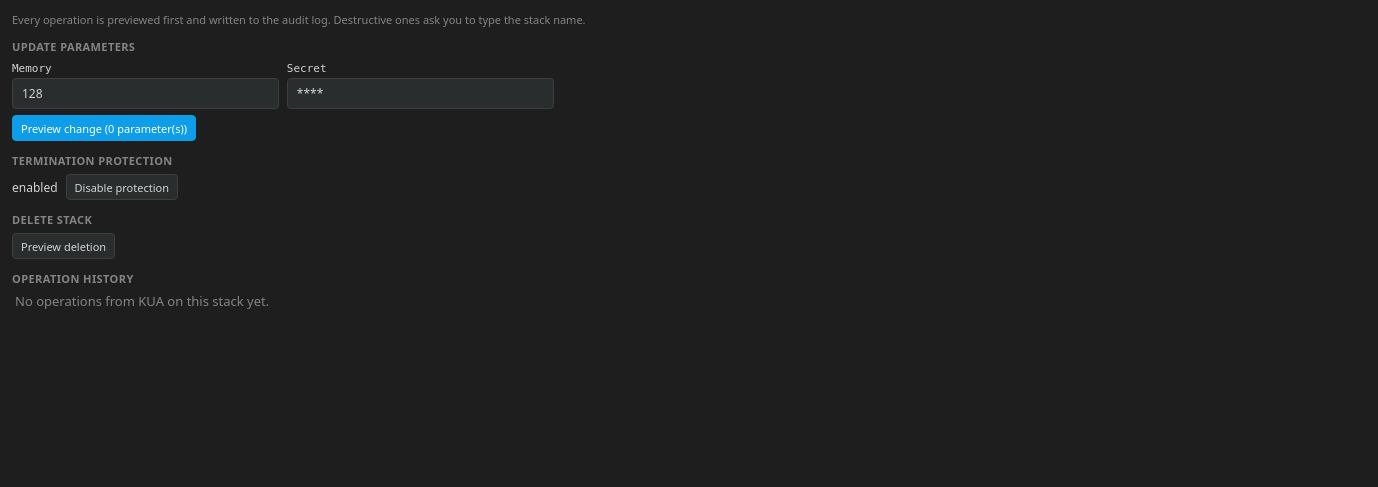
it: CfnOperations › shows delete blockers and hides the confirmation while the stack is protected
Click the button "Preview deletion". click: (64, 246)
box: [12,233,115,259]
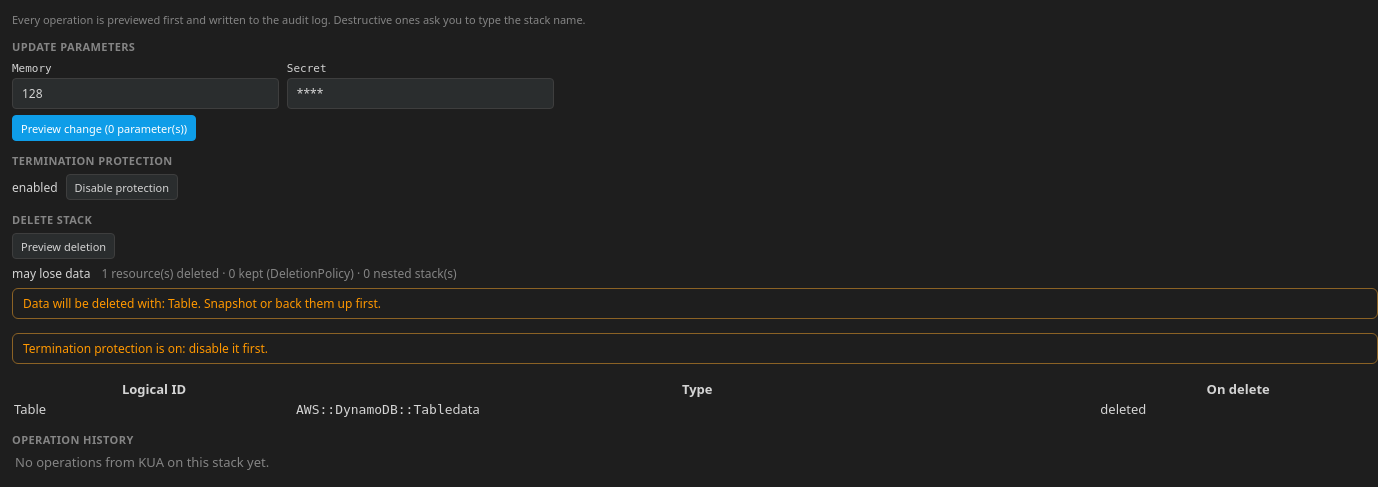
Check: the element with class "cop-section" shows "Table", box [14,400,46,418]
Check: the element with class "cop-section" shows "Termination protection is on", box [23,340,268,357]
